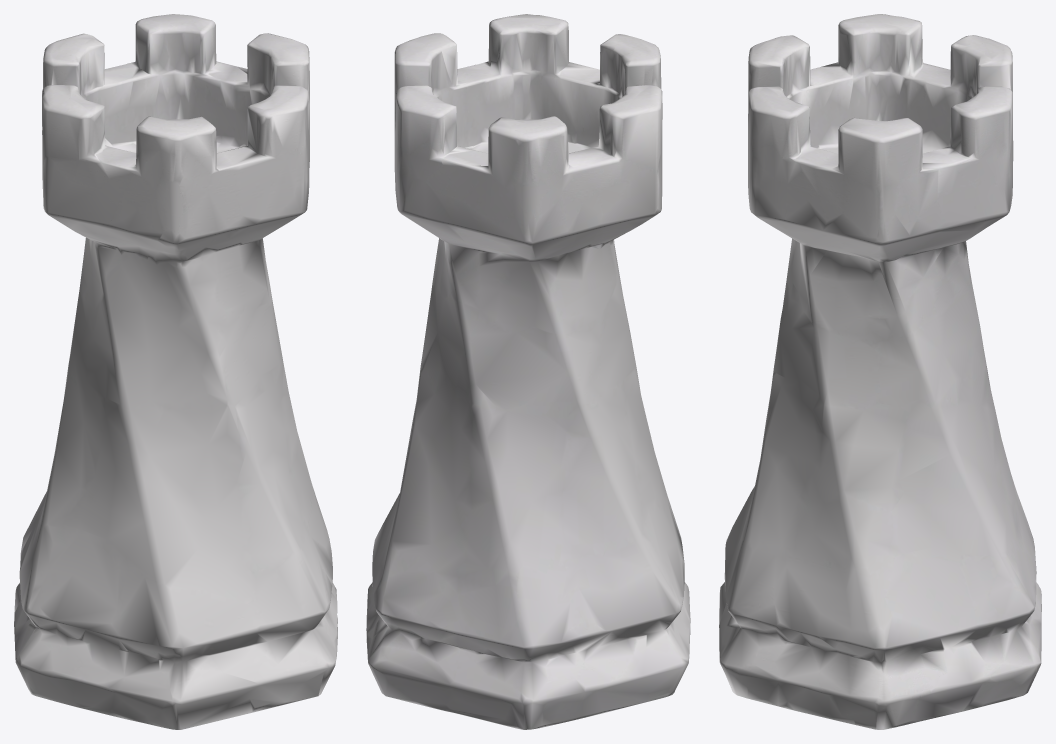
File: rook-white.glb
The picture shows the model from 3 angles, left to right: view 1: azimuth 30°, elevation 25°; view 2: azimuth 150°, elevation 25°; view 3: azimuth 270°, elevation 25°; orthographic projection.
Bounding box in the file's own units: 0.6203 × 1.1 × 0.5488.
1 material, 1 textured.
